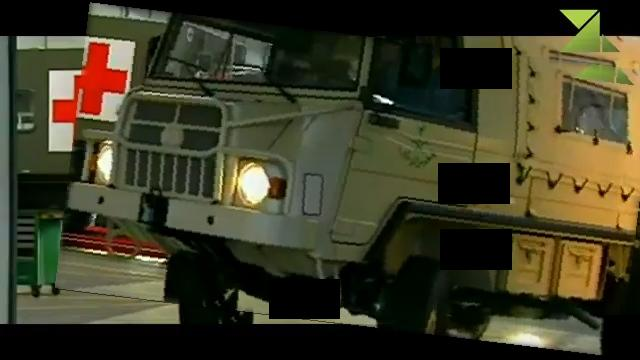MIL_HMMWV: (62, 19, 640, 341)
